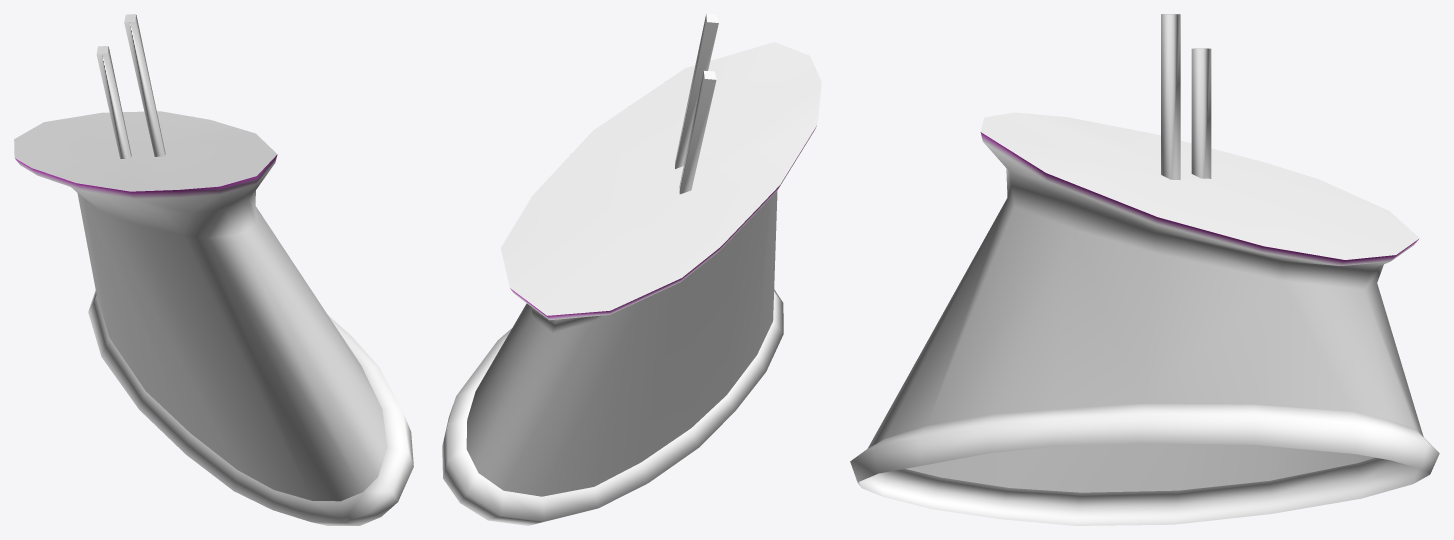
Rendered from Car_Buick_GrandNational_1987_MirrorBaseR_SetA.fbx.
3 views of the same model, side by side, from view 1: azimuth 30°, elevation 25°; view 2: azimuth 150°, elevation 25°; view 3: azimuth 270°, elevation 25° (orthographic). The views are drawn at different scales.
Parts seen in each view (by area): view 1: MirrorBaseR 6; view 2: MirrorBaseR 6; view 3: MirrorBaseR 6.
Part boxes in pixels (left/top/right/bottom): MirrorBaseR 6: left=14, top=14, right=413, bottom=525; MirrorBaseR 6: left=442, top=14, right=821, bottom=525; MirrorBaseR 6: left=850, top=14, right=1439, bottom=525.
Bounding box in the file's own units: 0.0531 × 0.1015 × 0.1137.
